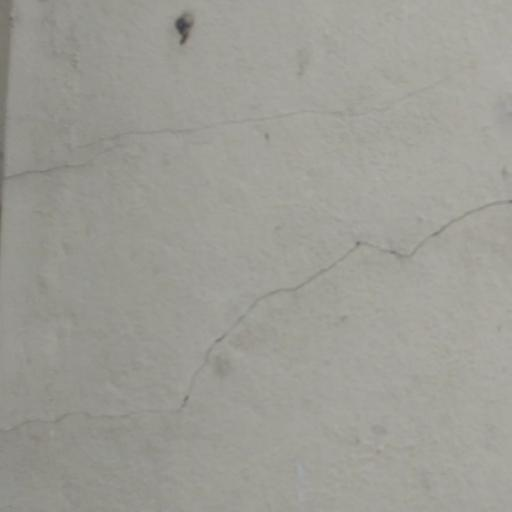minor_crack: (0, 187, 512, 444), (0, 53, 512, 180)
